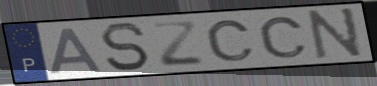A: (49, 26, 107, 76)
C: (203, 18, 257, 63), (256, 15, 310, 60)
N: (307, 6, 365, 62)
S: (97, 21, 152, 73)
Z: (149, 20, 207, 69)
